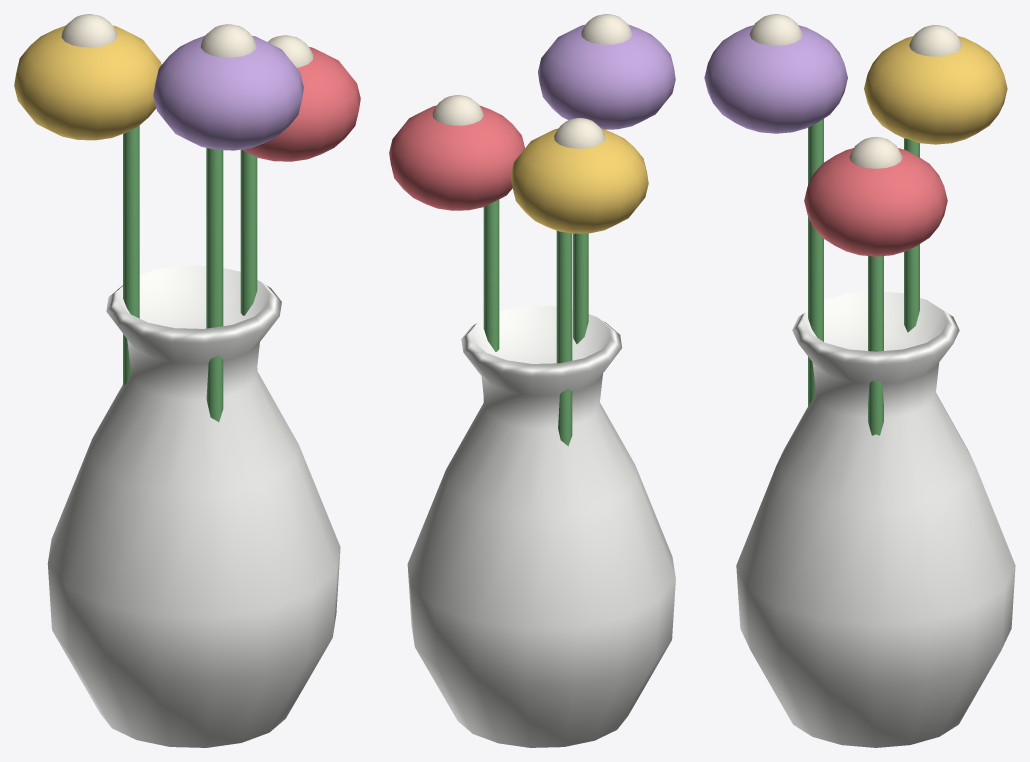
The model's file is prop_vase.glb.
3 renders of one model, left to right at view 1: azimuth 30°, elevation 25°; view 2: azimuth 150°, elevation 25°; view 3: azimuth 270°, elevation 25°, orthographic. The views are drawn at different scales.
Parts seen in each view (by area): view 1: prop_vase; view 2: prop_vase; view 3: prop_vase.
Part boxes in pixels (bbox=[...]): prop_vase: bbox=[14, 14, 360, 747]; prop_vase: bbox=[389, 14, 675, 747]; prop_vase: bbox=[704, 14, 1015, 747].
Size of the model in its own units: 0.2025 by 0.48 by 0.195.
